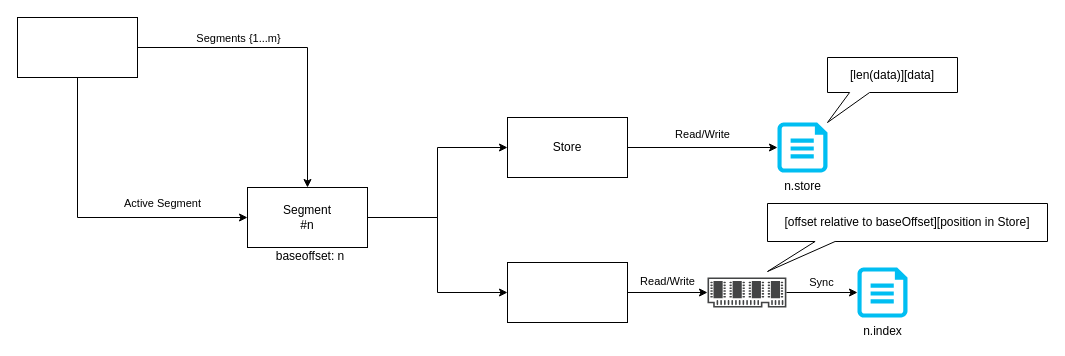
This 1065x356 diagram has some shape labels left out. The shapes that lost their labels are listed below. From the top down, each one's centre as x and y in pixels, then its label:
At pixel 77 47: "Log".
At pixel 567 292: "Index".
At pixel 746 292: "Memory-Map".
